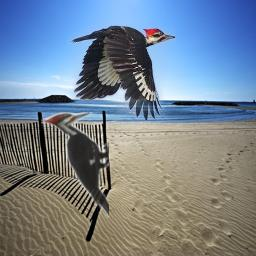Woodpecker: (68, 25, 175, 120), (41, 112, 109, 218)
